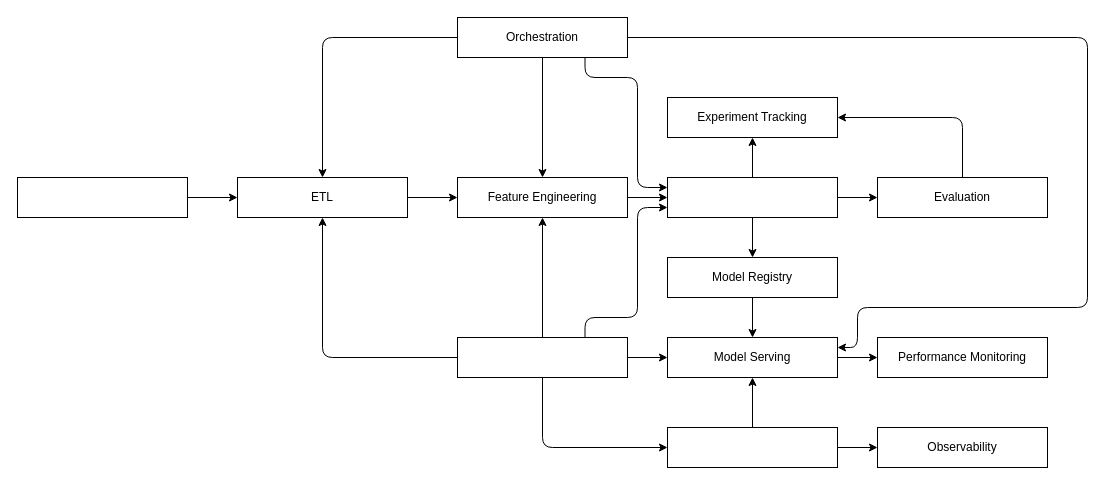
Some shapes in this 1113 by 485 pixel diagram are drawn without their labels. The shapes that lost their labels are listed below. From the top down, each one's centre as x and y in pixels, then its label:
At point 102,197: "Source Data".
At point 752,197: "Model Training".
At point 542,357: "Infrastructure/Compute".
At point 752,447: "Applications".
